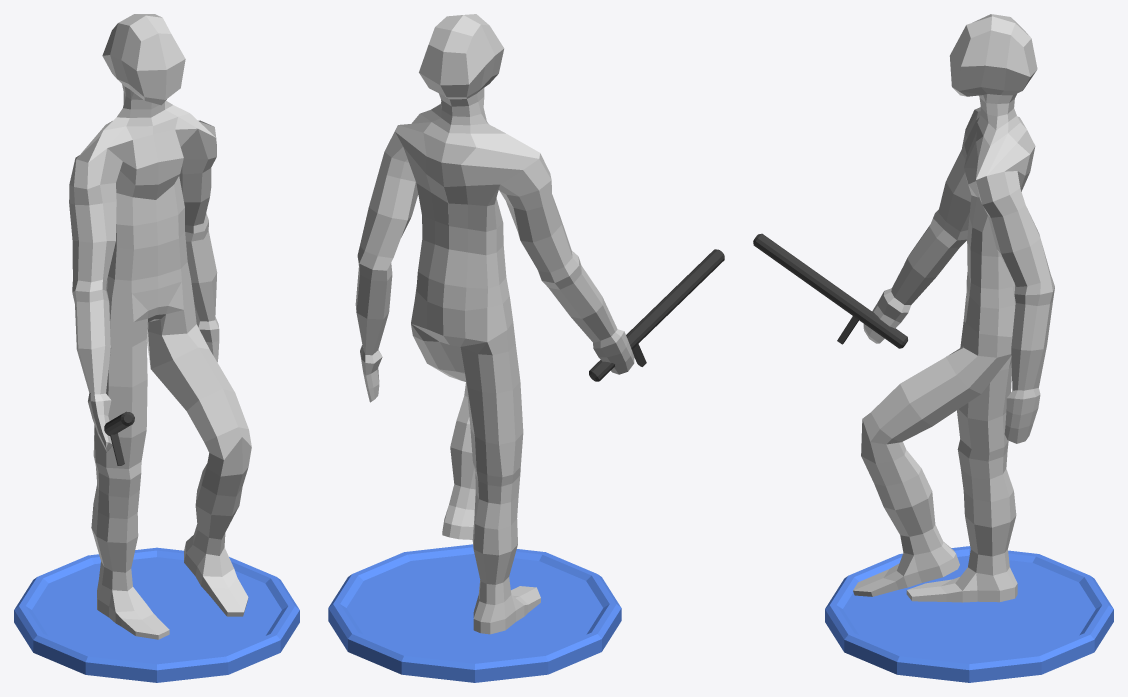
Rendered from player-guard.fbx.
The picture shows the model from 3 angles, left to right: view 1: azimuth 30°, elevation 25°; view 2: azimuth 150°, elevation 25°; view 3: azimuth 270°, elevation 25°; orthographic projection. The views are drawn at different scales.
Parts seen in each view (by area): view 1: figure, player_guard_2, stick; view 2: figure, player_guard_2, stick; view 3: figure, player_guard_2, stick.
Boxes of the visible parts, bbox=[...] form: figure: bbox=[69, 14, 251, 639]; player_guard_2: bbox=[14, 547, 299, 682]; stick: bbox=[104, 411, 134, 465]; figure: bbox=[355, 14, 634, 634]; player_guard_2: bbox=[328, 544, 621, 682]; stick: bbox=[589, 249, 724, 381]; figure: bbox=[853, 14, 1054, 602]; player_guard_2: bbox=[825, 546, 1113, 682]; stick: bbox=[753, 233, 907, 348].
Bounding box in the file's own units: 83.42 × 181 × 97.86.
